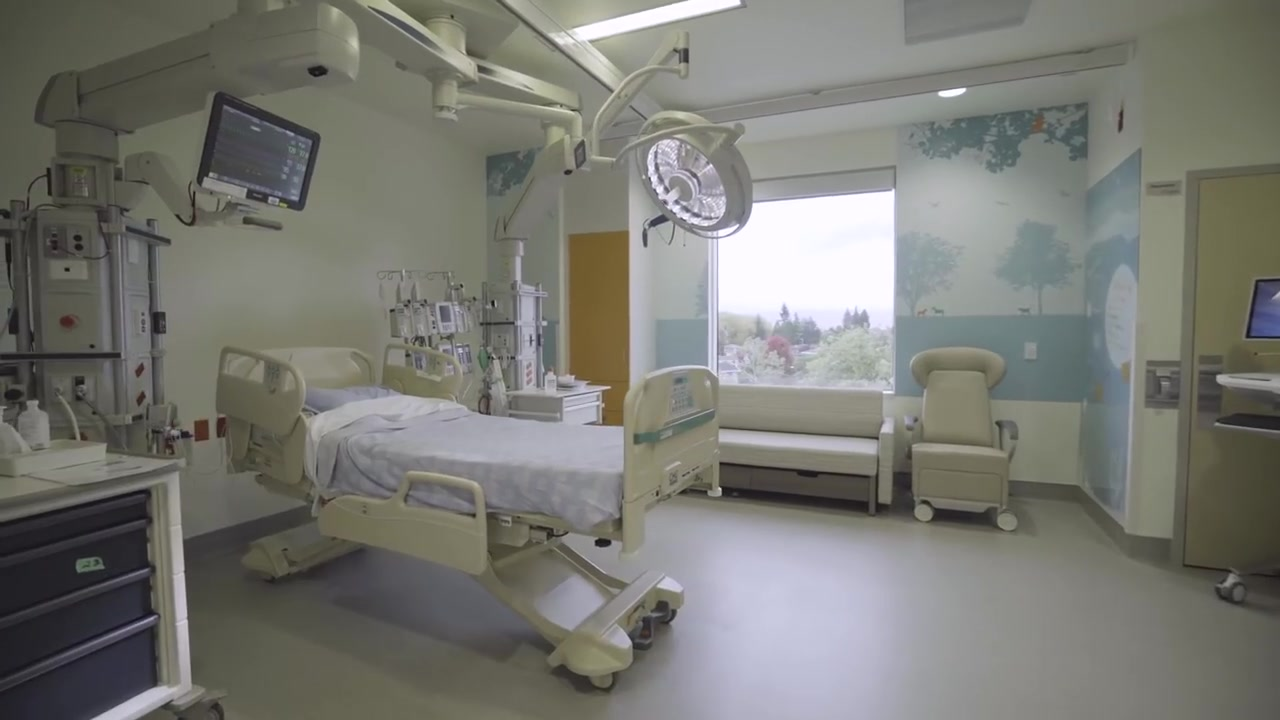bedrail: (308, 469, 486, 580), (215, 345, 306, 438), (380, 344, 462, 408)
bedside_monitor: (198, 90, 322, 212)
computer: (1240, 275, 1280, 343)
foot_board: (624, 363, 719, 553)
hospital_bed: (213, 344, 722, 689)
infusion_pump: (384, 302, 474, 336), (386, 342, 472, 375)
keyboard: (1216, 411, 1280, 430)
light_switch: (1025, 341, 1038, 360)
medical_drawer: (1, 448, 228, 720), (503, 383, 611, 429)
sofa: (715, 384, 896, 516), (904, 347, 1019, 531)
surgical_light: (635, 109, 753, 237)
